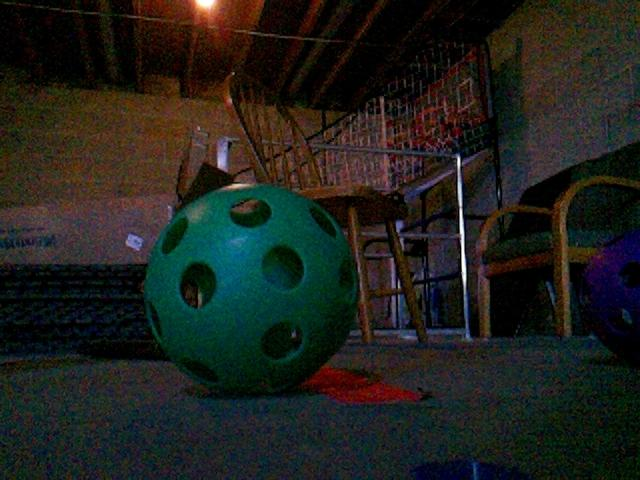Green: (140, 184, 356, 393)
Purple: (580, 224, 639, 365)
